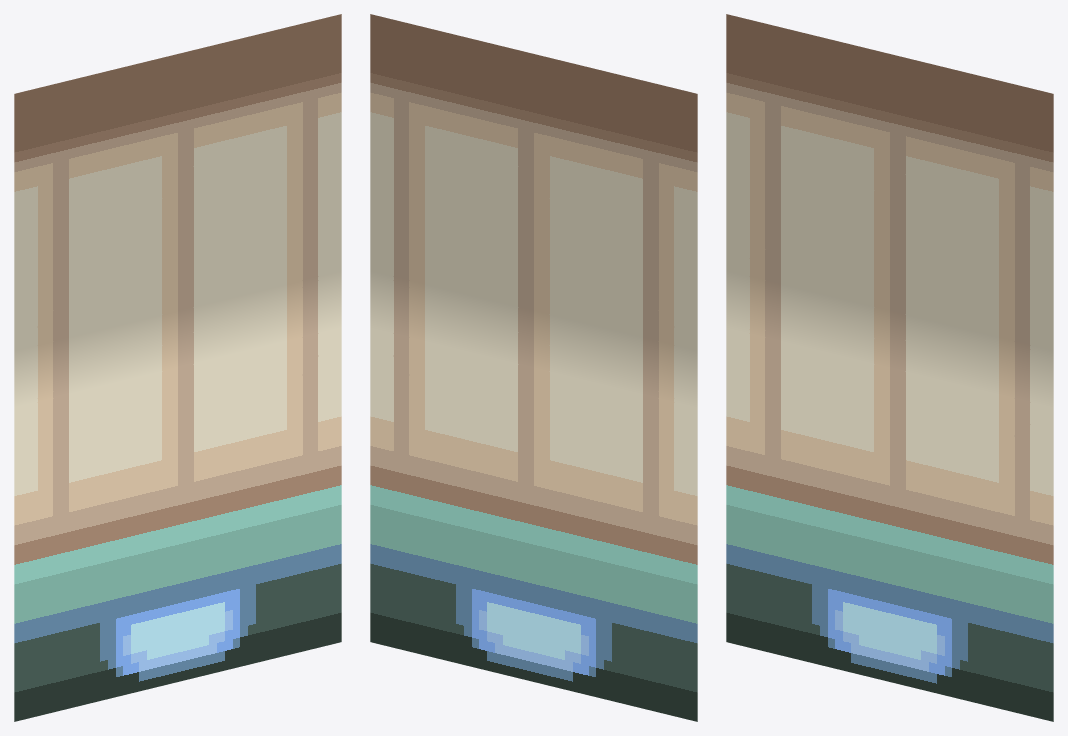
The model's file is hgss-passage-kit-mur-panneaux-droit.glb.
3 views of the same model, side by side, from view 1: azimuth 30°, elevation 25°; view 2: azimuth 150°, elevation 25°; view 3: azimuth 330°, elevation 25° (orthographic).
Size of the model in its own units: 3 by 5.5 by 0.
Materials: 1 (1 with a texture image).
